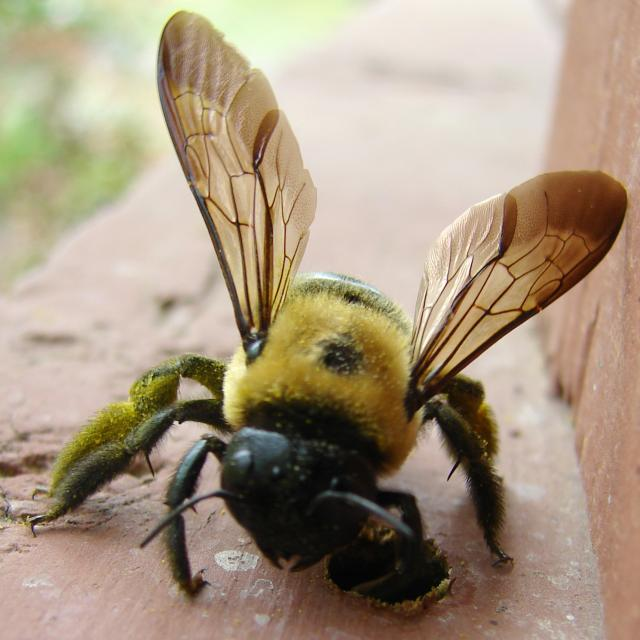Lasioglossum: (48, 4, 640, 624)
